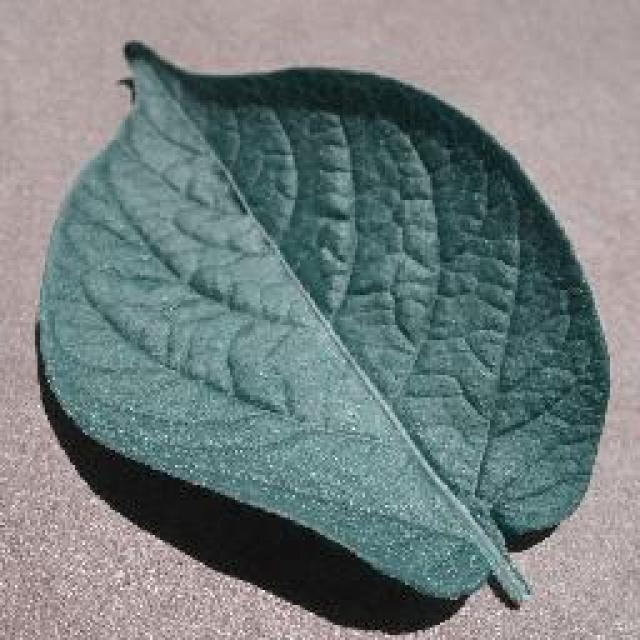Potato___healthy: (34, 36, 616, 616)
